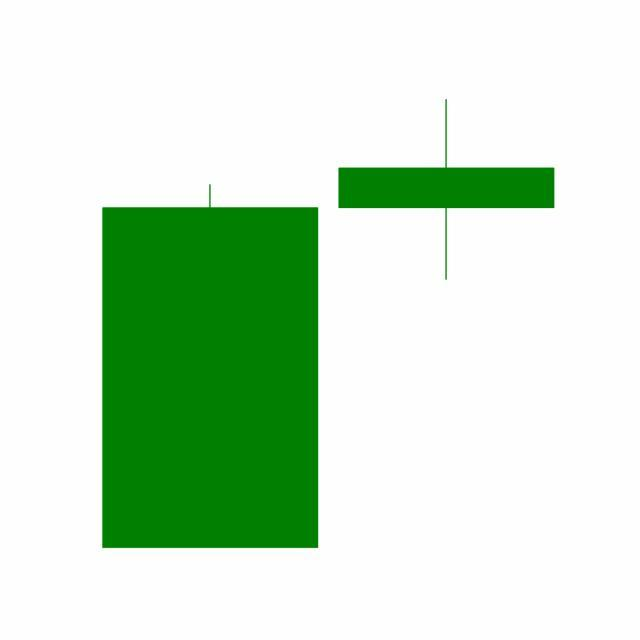Spinning Top: (328, 98, 566, 283)
